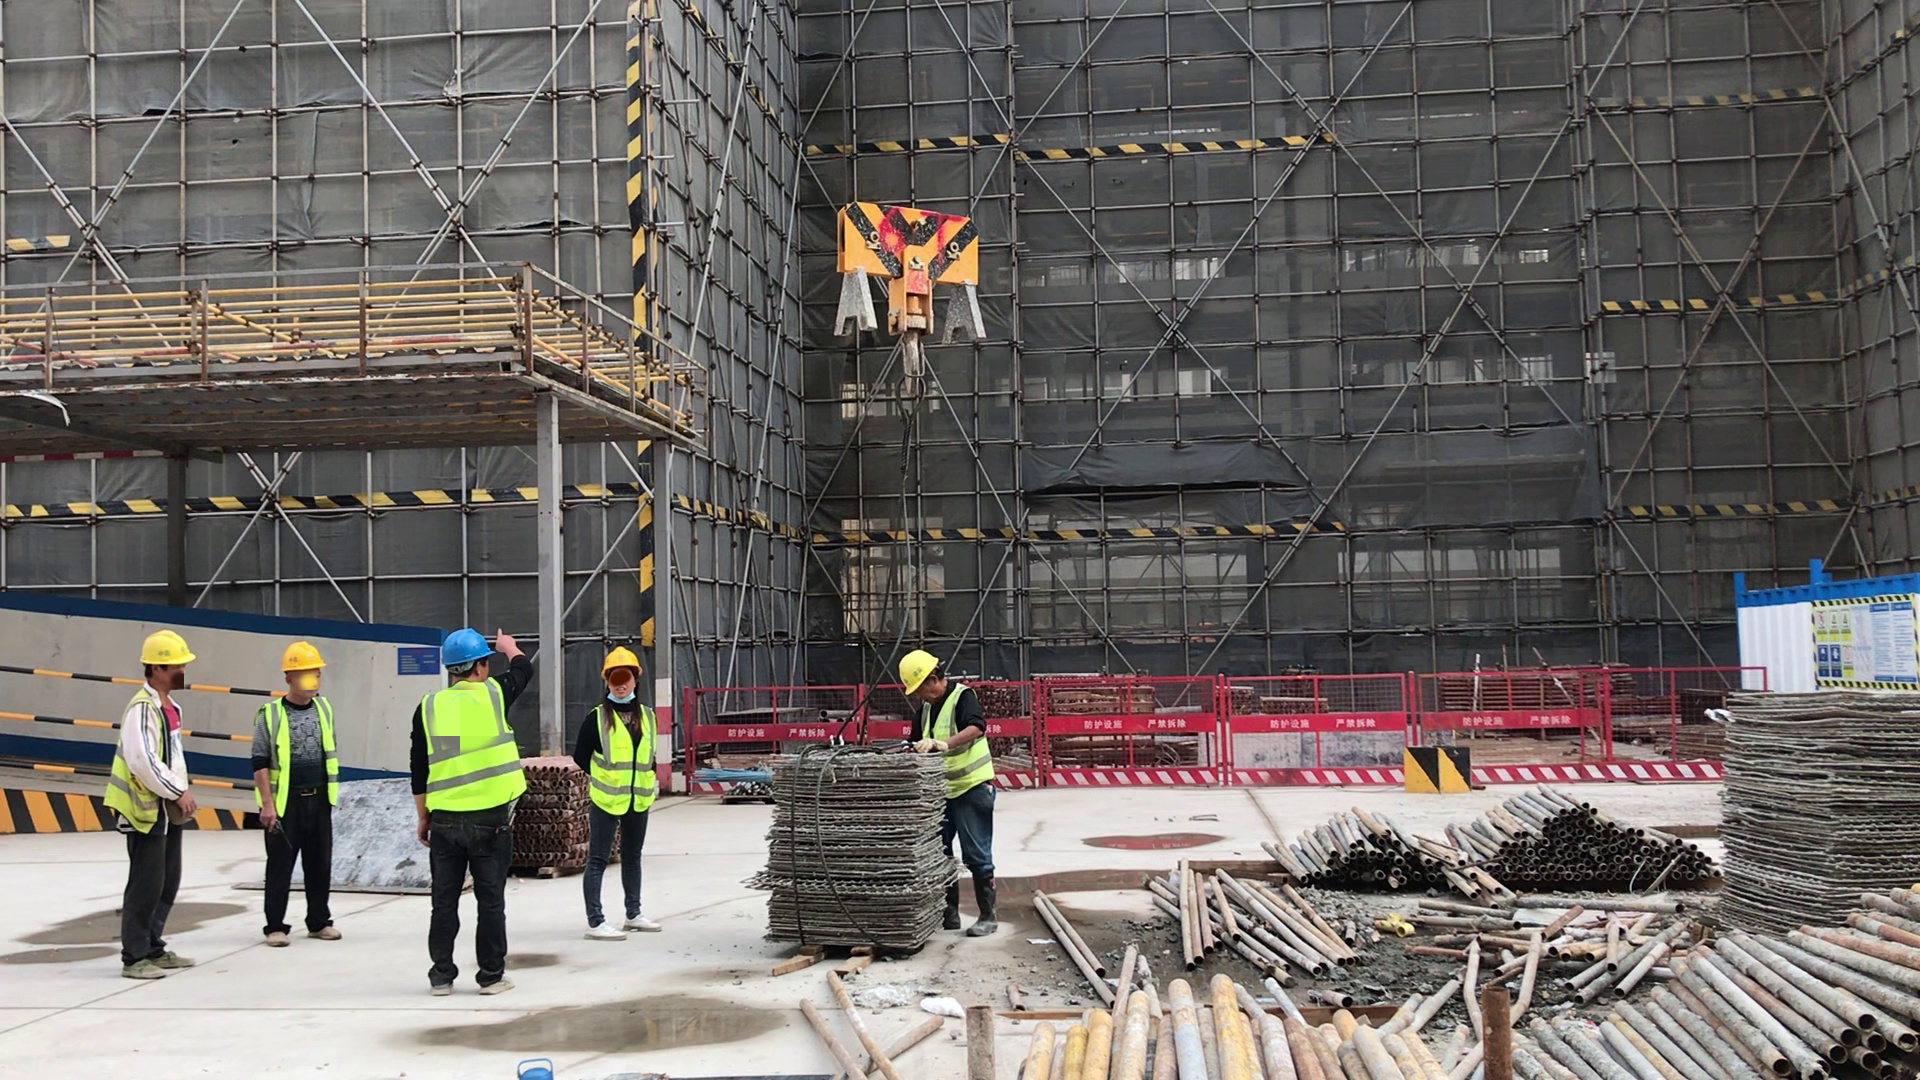helmet: (429, 627, 494, 673), (138, 630, 199, 670), (281, 640, 326, 687), (899, 647, 939, 700), (596, 645, 647, 685)
person: (412, 627, 527, 992), (896, 642, 1003, 936), (105, 625, 196, 975), (253, 634, 346, 948), (577, 640, 663, 944)
vest: (418, 680, 529, 820), (262, 698, 342, 815), (105, 689, 165, 842), (922, 684, 994, 804), (592, 701, 655, 816)
